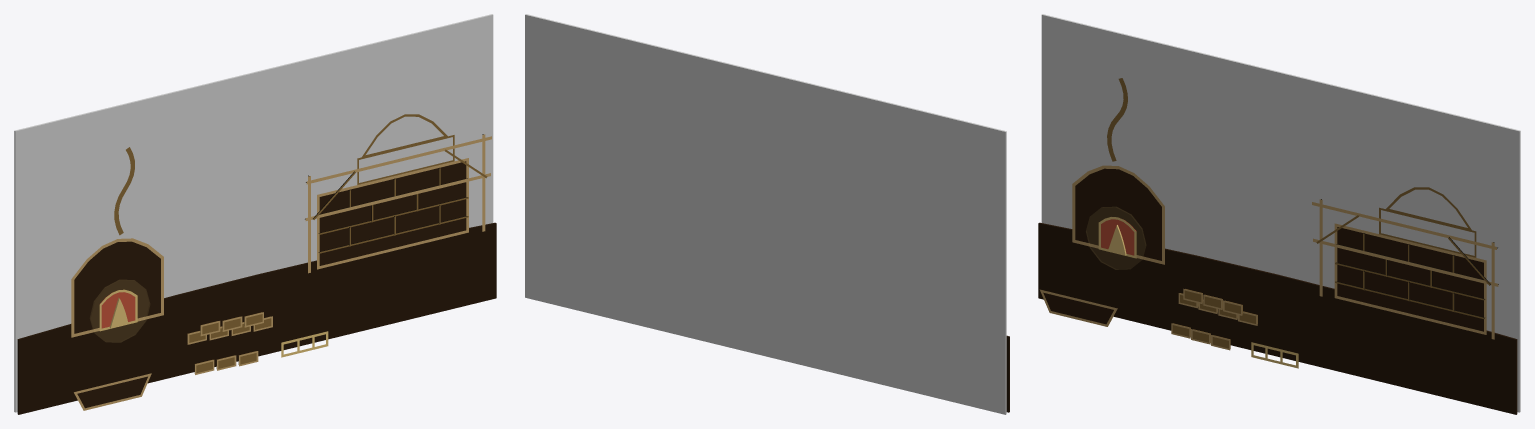
The model's file is loc-kirpichnyi-dvor.glb.
The picture shows the model from 3 angles, left to right: view 1: azimuth 30°, elevation 25°; view 2: azimuth 150°, elevation 25°; view 3: azimuth 330°, elevation 25°; orthographic projection.
Visible parts, largest first — view 1: loc-kirpichnyi-dvor; view 2: loc-kirpichnyi-dvor; view 3: loc-kirpichnyi-dvor.
Boxes of the visible parts, <box> form: loc-kirpichnyi-dvor: <box>14,14,496,414</box>; loc-kirpichnyi-dvor: <box>525,14,1009,414</box>; loc-kirpichnyi-dvor: <box>1038,14,1520,414</box>.
Size of the model in its own units: 5.33 by 3 by 0.601.
